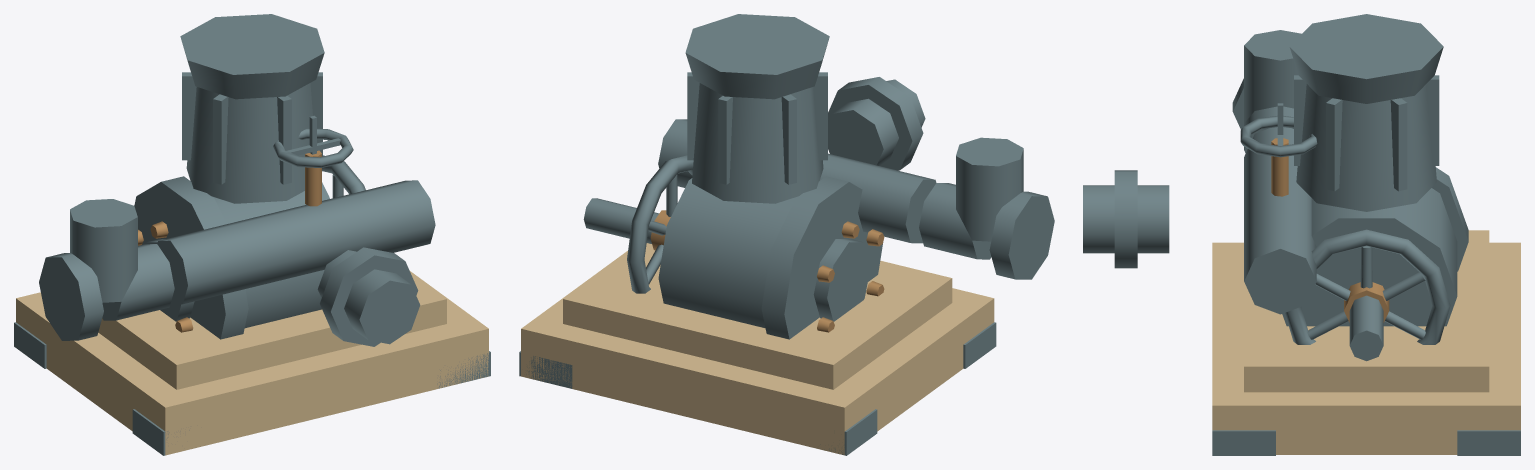
File: pump-station.source.glb
3 renders of one model, left to right at view 1: azimuth 30°, elevation 25°; view 2: azimuth 150°, elevation 25°; view 3: azimuth 270°, elevation 25°, orthographic. The views are drawn at different scales.
Parts seen in each view (by area): view 1: pump-station-base-plinth-mesh, pump-station-manifold-main-mesh, pump-station-base-upper-mesh, pump-station-motor-cap-mesh, pump-station-motor-body-mesh, pump-station-pump-housing-front-ring-mesh, pump-station-outlet-upright-mesh, pump-station-rear-inlet-pipe-mesh, pump-station-outlet-mouth-mesh, pump-station-pump-housing-main-mesh, pump-station-rear-inlet-flange-mesh, pump-station-outlet-stub-mesh (+11 smaller); view 2: pump-station-base-plinth-mesh, pump-station-base-upper-mesh, pump-station-pump-housing-main-mesh, pump-station-motor-body-mesh, pump-station-motor-cap-mesh, pump-station-pump-housing-front-ring-mesh, pump-station-manifold-main-mesh, pump-station-outlet-upright-mesh, pump-station-outlet-mouth-mesh, pump-station-rear-inlet-pipe-mesh, pump-station-pump-inspection-cap-mesh, pump-station-rear-inlet-flange-mesh (+10 smaller); view 3: pump-station-base-plinth-mesh, pump-station-base-upper-mesh, pump-station-motor-body-mesh, pump-station-pump-housing-main-mesh, pump-station-motor-cap-mesh, pump-station-manifold-main-mesh, pump-station-rear-inlet-pipe-mesh, pump-station-flywheel-rim-mesh, pump-station-outlet-upright-mesh, pump-station-rear-inlet-flange-mesh, pump-station-drive-shaft-mesh, pump-station-base-foot-right-front-mesh (+14 smaller).
Part boxes in pixels (x1=…): pump-station-base-plinth-mesh: x1=16, y1=271, x2=488, y2=455; pump-station-manifold-main-mesh: x1=157, y1=180, x2=435, y2=304; pump-station-base-upper-mesh: x1=98, y1=272, x2=446, y2=389; pump-station-motor-cap-mesh: x1=180, y1=14, x2=324, y2=99; pump-station-motor-body-mesh: x1=186, y1=83, x2=312, y2=203; pump-station-pump-housing-front-ring-mesh: x1=134, y1=176, x2=248, y2=339; pump-station-outlet-upright-mesh: x1=70, y1=199, x2=137, y2=302; pump-station-rear-inlet-pipe-mesh: x1=317, y1=250, x2=420, y2=344; pump-station-outlet-mouth-mesh: x1=39, y1=253, x2=103, y2=340; pump-station-pump-housing-main-mesh: x1=211, y1=182, x2=329, y2=328; pump-station-rear-inlet-flange-mesh: x1=320, y1=247, x2=418, y2=346; pump-station-outlet-stub-mesh: x1=102, y1=244, x2=174, y2=320; pump-station-base-plinth-mesh: x1=521, y1=251, x2=994, y2=455; pump-station-base-upper-mesh: x1=563, y1=243, x2=952, y2=389; pump-station-pump-housing-main-mesh: x1=658, y1=178, x2=798, y2=327; pump-station-motor-body-mesh: x1=692, y1=83, x2=823, y2=203; pump-station-motor-cap-mesh: x1=685, y1=14, x2=829, y2=99; pump-station-pump-housing-front-ring-mesh: x1=761, y1=176, x2=883, y2=339; pump-station-manifold-main-mesh: x1=658, y1=119, x2=936, y2=243; pump-station-outlet-upright-mesh: x1=956, y1=137, x2=1023, y2=241; pump-station-outlet-mouth-mesh: x1=989, y1=191, x2=1054, y2=279; pump-station-rear-inlet-pipe-mesh: x1=828, y1=79, x2=925, y2=165; pump-station-pump-inspection-cap-mesh: x1=813, y1=239, x2=870, y2=321; pump-station-rear-inlet-flange-mesh: x1=828, y1=77, x2=923, y2=170; pump-station-base-plinth-mesh: x1=1212, y1=242, x2=1520, y2=454; pump-station-base-upper-mesh: x1=1244, y1=230, x2=1489, y2=392; pump-station-motor-body-mesh: x1=1296, y1=84, x2=1436, y2=211; pump-station-pump-housing-main-mesh: x1=1282, y1=188, x2=1457, y2=326; pump-station-motor-cap-mesh: x1=1289, y1=14, x2=1443, y2=103; pump-station-manifold-main-mesh: x1=1244, y1=127, x2=1316, y2=314; pump-station-rear-inlet-pipe-mesh: x1=1083, y1=185, x2=1169, y2=253; pump-station-flywheel-rim-mesh: x1=1285, y1=229, x2=1450, y2=344; pump-station-outlet-upright-mesh: x1=1244, y1=30, x2=1301, y2=122; pump-station-rear-inlet-flange-mesh: x1=1114, y1=170, x2=1137, y2=268; pump-station-drive-shaft-mesh: x1=1349, y1=295, x2=1383, y2=361; pump-station-base-foot-right-front-mesh: x1=1457, y1=430, x2=1520, y2=455.
Bounding box in the file's own units: 2.09 × 1.59 × 1.93.
